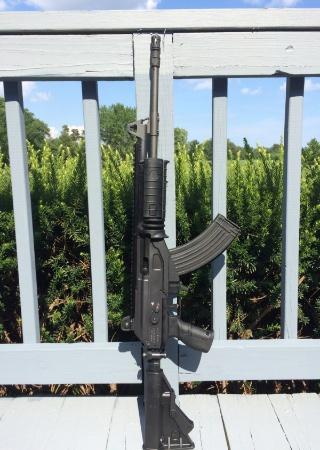weapon: (120, 36, 240, 450)
